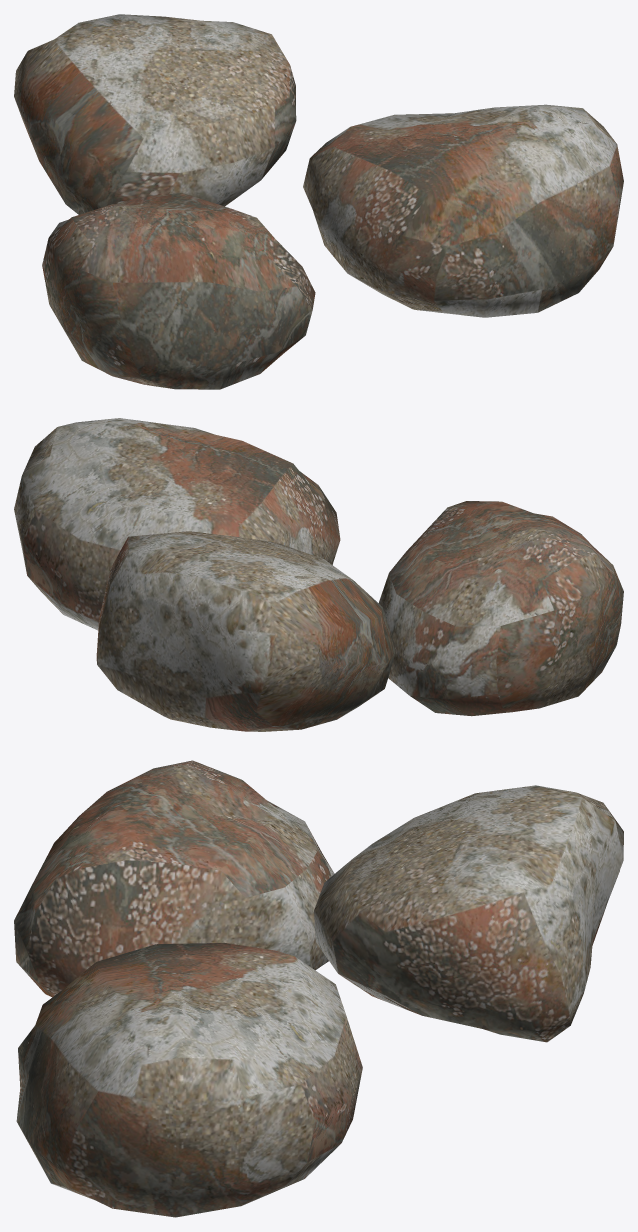
Rendered from Piedras_1.fbx.
3 views of the same model, one above another, from view 1: azimuth 30°, elevation 25°; view 2: azimuth 150°, elevation 25°; view 3: azimuth 270°, elevation 25° (orthographic). The views are drawn at different scales.
Visible parts, largest first — view 1: pCube4; view 2: pCube4; view 3: pCube4.
Part boxes in pixels (x1,y1,x2,y2): pCube4: (14, 14, 623, 389); pCube4: (14, 418, 623, 731); pCube4: (14, 760, 623, 1217).
Bounding box in the file's own units: 1.76 × 0.6097 × 1.41.
